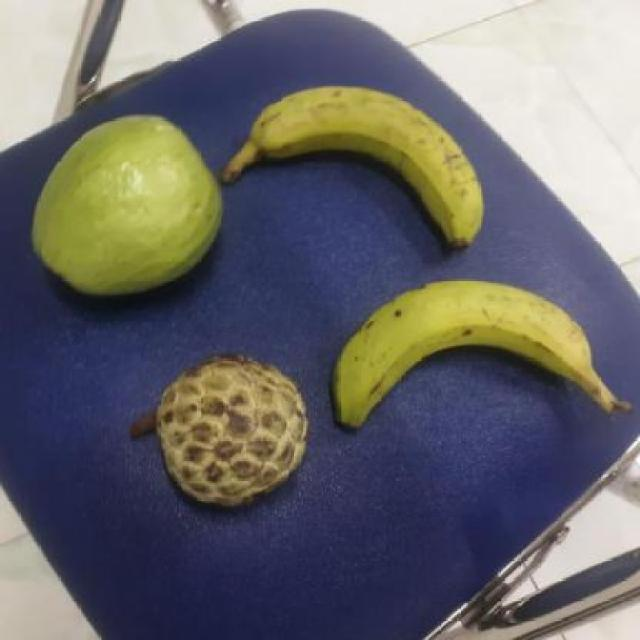banana: (215, 84, 478, 258), (324, 279, 596, 426)
guava: (22, 118, 224, 298)
sugar apple: (134, 354, 304, 506)
